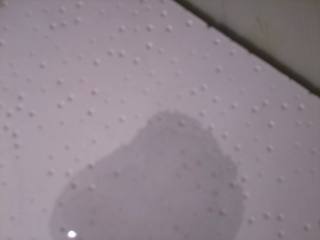Water_detected: (71, 129, 208, 240)
